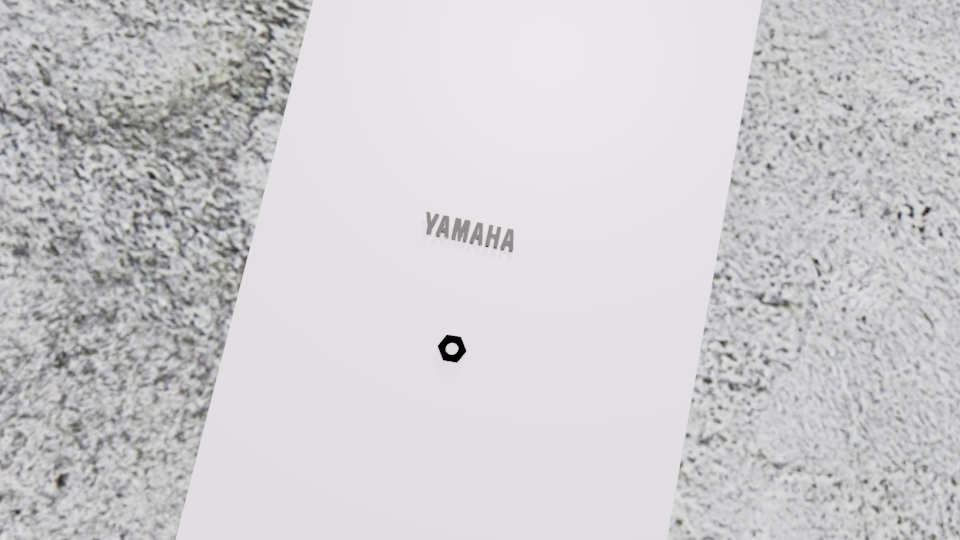yamaha_letters: (425, 210, 514, 251)
